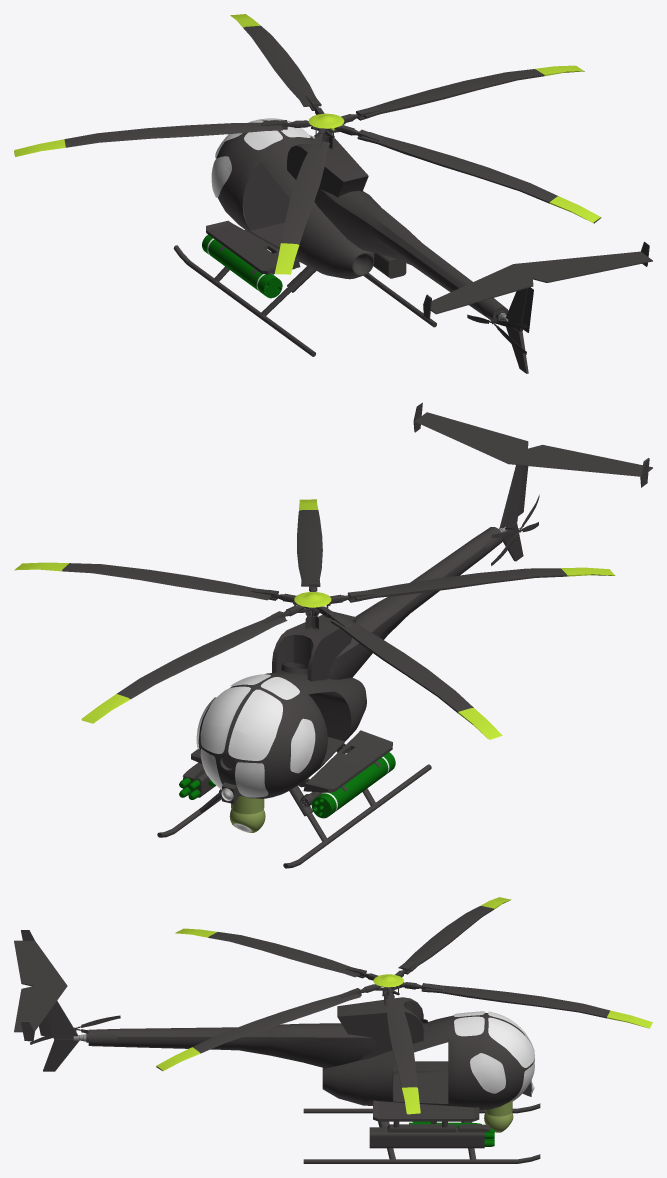
File: Helecoptr.fbx
3 views of the same model, one above another, from view 1: azimuth 30°, elevation 25°; view 2: azimuth 150°, elevation 25°; view 3: azimuth 270°, elevation 25° (orthographic). The views are drawn at different scales.
Parts seen in each view (by area): view 1: Circle.002, Sphere, Plane, Cylinder.002, Cube.001, Plane.001, Cube, Plane.004, Cylinder.005, Cylinder, Cylinder.003, Cube.004 (+1 smaller); view 2: Circle.002, Sphere, Plane.004, Plane, Cylinder.002, Cube.001, Cube, Cylinder.005, Cylinder, Sphere.001; view 3: Circle.002, Sphere, Cylinder.002, Plane, Plane.004, Cube.001, Cube, Cube.004, Cylinder, Sphere.001, Cube.005.
Part boxes in pixels (left/top/right/bottom): Circle.002: left=14, top=14, right=601, bottom=274; Sphere: left=216, top=120, right=374, bottom=279; Plane: left=423, top=241, right=652, bottom=373; Cylinder.002: left=314, top=189, right=508, bottom=321; Cube.001: left=287, top=137, right=368, bottom=197; Plane.001: left=242, top=162, right=289, bottom=230; Cube: left=206, top=220, right=300, bottom=274; Plane.004: left=211, top=118, right=314, bottom=197; Cylinder.005: left=202, top=234, right=282, bottom=298; Cylinder: left=173, top=245, right=436, bottom=356; Cylinder.003: left=261, top=266, right=383, bottom=315; Cube.004: left=373, top=253, right=406, bottom=278; Circle.002: left=14, top=499, right=614, bottom=739; Sphere: left=198, top=672, right=366, bottom=798; Plane.004: left=196, top=674, right=315, bottom=797; Plane: left=413, top=402, right=652, bottom=561; Cylinder.002: left=330, top=527, right=506, bottom=679; Cube.001: left=272, top=611, right=356, bottom=681; Cube: left=191, top=730, right=392, bottom=792; Cylinder.005: left=311, top=752, right=395, bottom=818; Cylinder: left=157, top=764, right=431, bottom=868; Sphere.001: left=229, top=796, right=265, bottom=832; Circle.002: left=156, top=897, right=652, bottom=1114; Sphere: left=322, top=1012, right=532, bottom=1110; Cylinder.002: left=73, top=1023, right=376, bottom=1068; Plane: left=14, top=930, right=79, bottom=1071; Plane.004: left=454, top=1011, right=534, bottom=1102; Cube.001: left=337, top=997, right=423, bottom=1060; Cube: left=373, top=1061, right=479, bottom=1121; Cube.004: left=369, top=1127, right=484, bottom=1148; Cylinder: left=303, top=1103, right=540, bottom=1163; Sphere.001: left=484, top=1100, right=513, bottom=1132; Cube.005: left=387, top=1124, right=456, bottom=1132.
Size of the model in its own units: 1021 by 360 by 1274.
